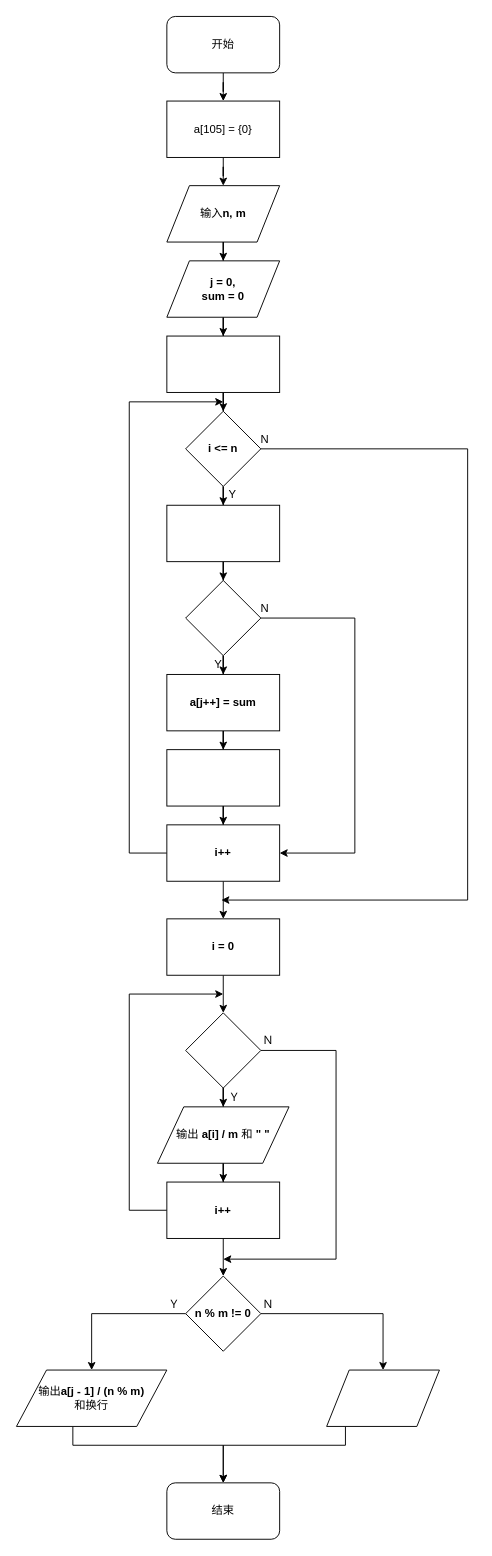
The diagram is 492 pixels wide and 1556 high, and some of its shapes have lost their labels. Each missing label, with the centre of its shape:
"i % m = 0, i == n" goes at point 223,618.
"i < j - 1" goes at point 223,1050.
"i = 1" goes at point 223,363.
"sum += 2 * i" goes at point 223,533.
"sum = 0" goes at point 223,777.
"输出 a[j - 1] / m 和换行" goes at point 382,1397.
